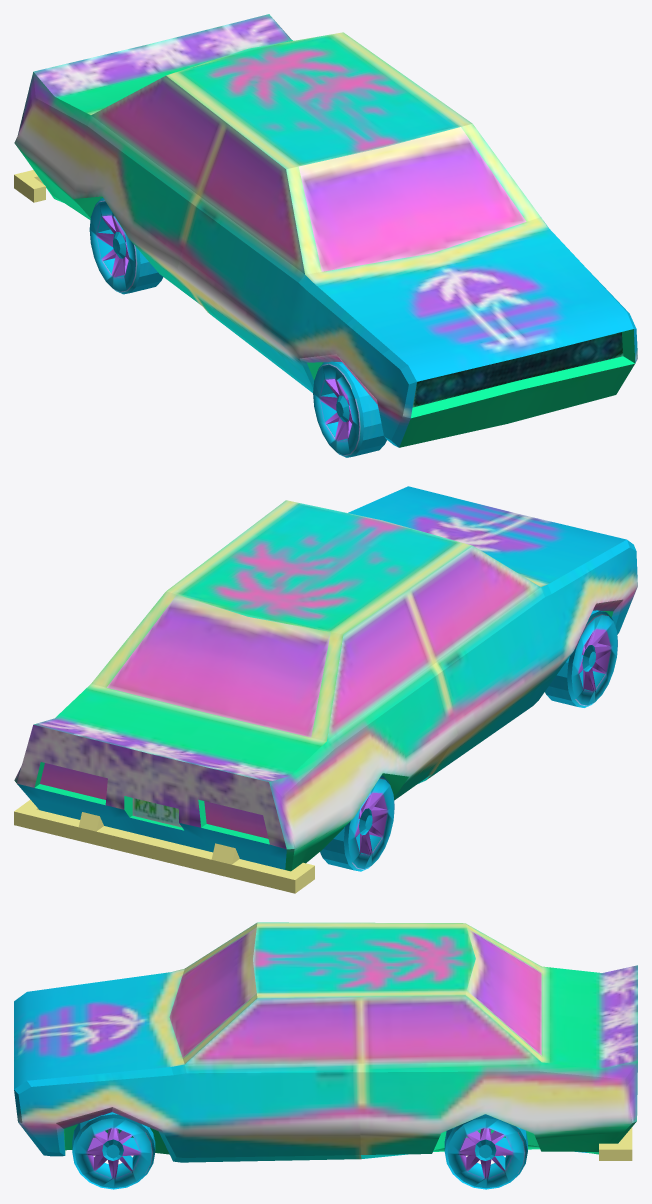
Rendered from vaporwave.glb.
3 renders of one model, top to bottom at view 1: azimuth 30°, elevation 25°; view 2: azimuth 150°, elevation 25°; view 3: azimuth 270°, elevation 25°, orthographic. The views are drawn at different scales.
Visible parts, largest first — view 1: Object_4, wheel_2, wheel_3, Object_5; view 2: Object_4, Object_5, wheel_2, wheel_3; view 3: Object_4, wheel_0, wheel_1, Object_5.
Boxes of the visible parts, x1,y1,x2,y2 form: Object_4: (14, 14, 637, 447); wheel_2: (313, 361, 386, 457); wheel_3: (89, 198, 163, 294); Object_5: (14, 170, 45, 202); Object_4: (14, 486, 637, 871); Object_5: (14, 799, 314, 893); wheel_2: (545, 610, 617, 707); wheel_3: (320, 775, 394, 871); Object_4: (14, 922, 637, 1162); wheel_0: (72, 1112, 155, 1189); wheel_1: (444, 1114, 527, 1189); Object_5: (599, 1127, 632, 1160).
Bounding box in the file's own units: 2.29 × 1.68 × 5.27.
Materials: 4 (4 with a texture image).
